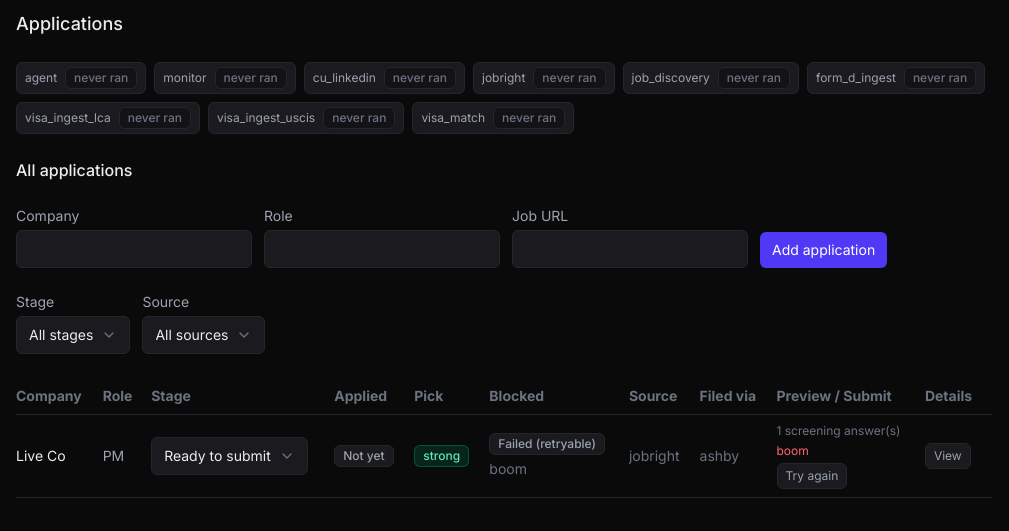
Test: ApplicationsPage -- automation_status gating (needs_confirmation, Review Focus 1) › Try again clears the polled live status so the reloaded row's status shows
Check: the text "Live Co" is shown, box [16,414,103,498]
What coordinates should you click on to do the following:
click the button "Try again"
I would click on:
 (812, 476)
Its box is [776,463,847,489].
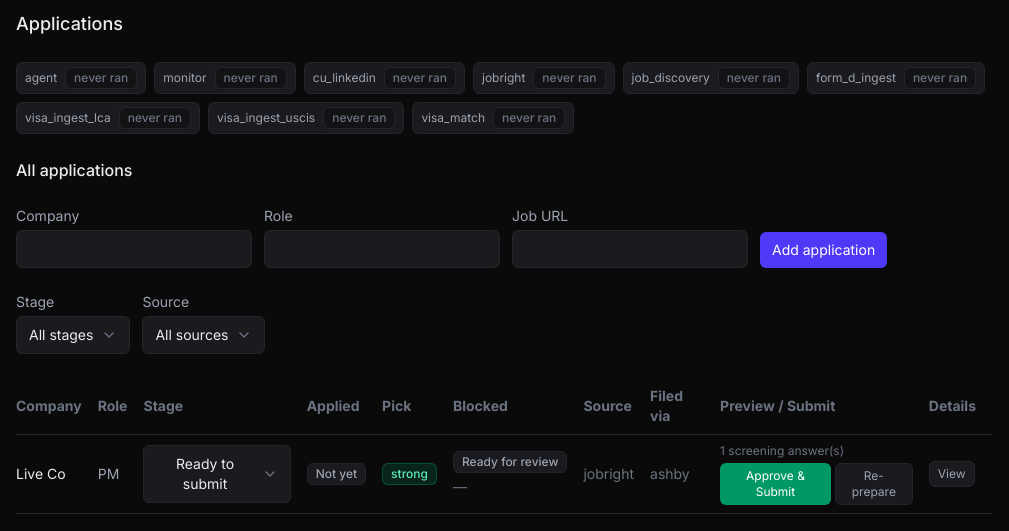
Check: the text "Ready for review" is shown, box [453,451,568,473]
